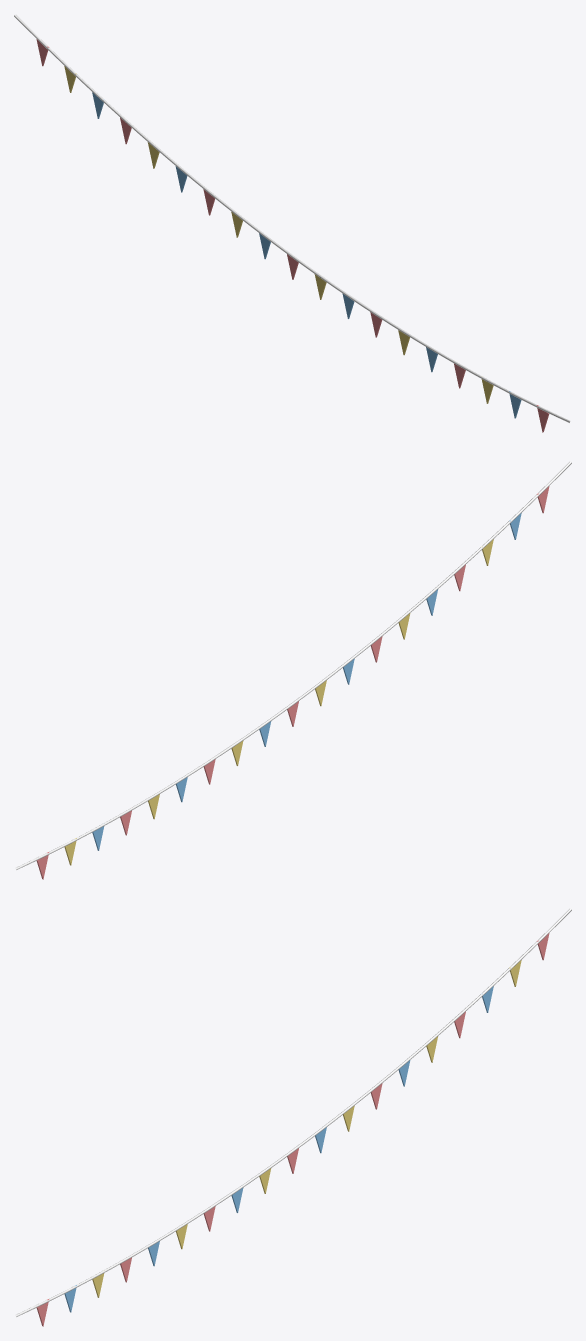
File: MechaMarathonBunting.glb
The picture shows the model from 3 angles, top to bottom: view 1: azimuth 30°, elevation 25°; view 2: azimuth 150°, elevation 25°; view 3: azimuth 330°, elevation 25°; orthographic projection.
Parts seen in each view (by area): view 1: String, FlagsA, FlagsB, FlagsC; view 2: String, FlagsA, FlagsB, FlagsC; view 3: String, FlagsA, FlagsB, FlagsC.
Part boxes in pixels (x1,y1,x2,y2): String: [14, 14, 570, 422]; FlagsA: [36, 39, 549, 432]; FlagsB: [64, 66, 493, 403]; FlagsC: [92, 92, 521, 418]; String: [15, 461, 571, 869]; FlagsA: [36, 486, 549, 879]; FlagsB: [64, 539, 493, 865]; FlagsC: [92, 513, 521, 850]; String: [15, 908, 571, 1316]; FlagsA: [36, 933, 549, 1326]; FlagsB: [92, 960, 521, 1297]; FlagsC: [64, 986, 493, 1312].
Bounding box in the file's own units: 0.0866 × 2.47 × 40.01.
